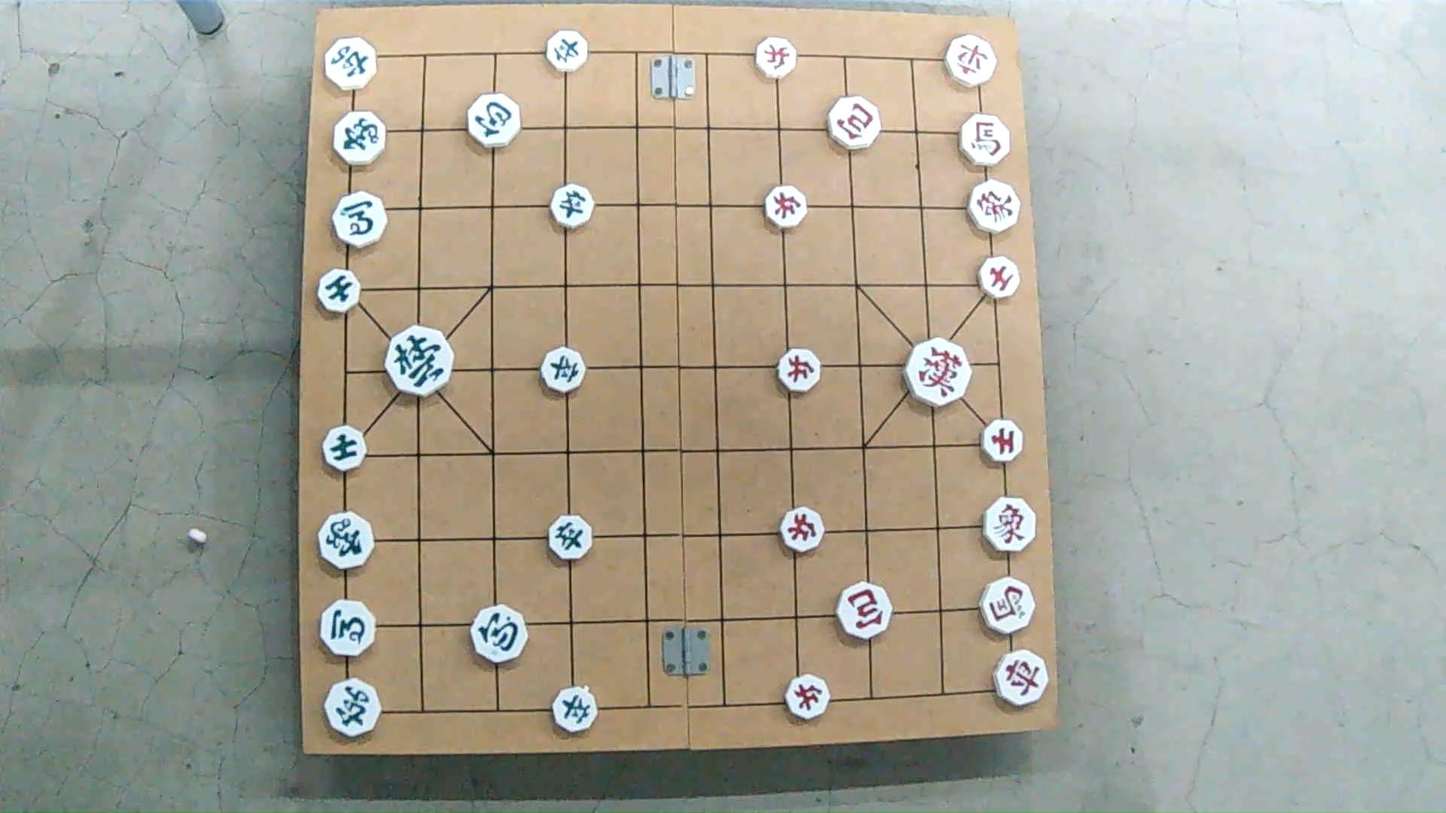cha_green: (322, 682, 382, 738), (325, 35, 379, 88)
cha_red: (990, 650, 1047, 705), (942, 37, 995, 84)
jol_green: (550, 686, 600, 730), (540, 346, 585, 394), (549, 516, 595, 561), (550, 188, 594, 230), (544, 32, 587, 72)
jol_red: (779, 510, 826, 553), (784, 678, 829, 720), (776, 350, 822, 391), (765, 189, 811, 229), (755, 38, 799, 78)
ma_green: (319, 600, 377, 657), (331, 193, 387, 246)
ma_red: (982, 577, 1036, 632), (958, 116, 1011, 166)
po_green: (466, 91, 520, 155), (471, 602, 527, 662)
po_red: (837, 584, 892, 638), (824, 99, 878, 150)
sa_green: (322, 427, 367, 470), (317, 269, 358, 313)
sa_red: (980, 255, 1021, 302), (983, 421, 1027, 462)
sang_green: (317, 510, 376, 574), (334, 110, 385, 166)
sang_red: (981, 498, 1037, 552), (966, 181, 1023, 233)
wang_green: (386, 329, 454, 394)
wang_red: (904, 342, 972, 404)
